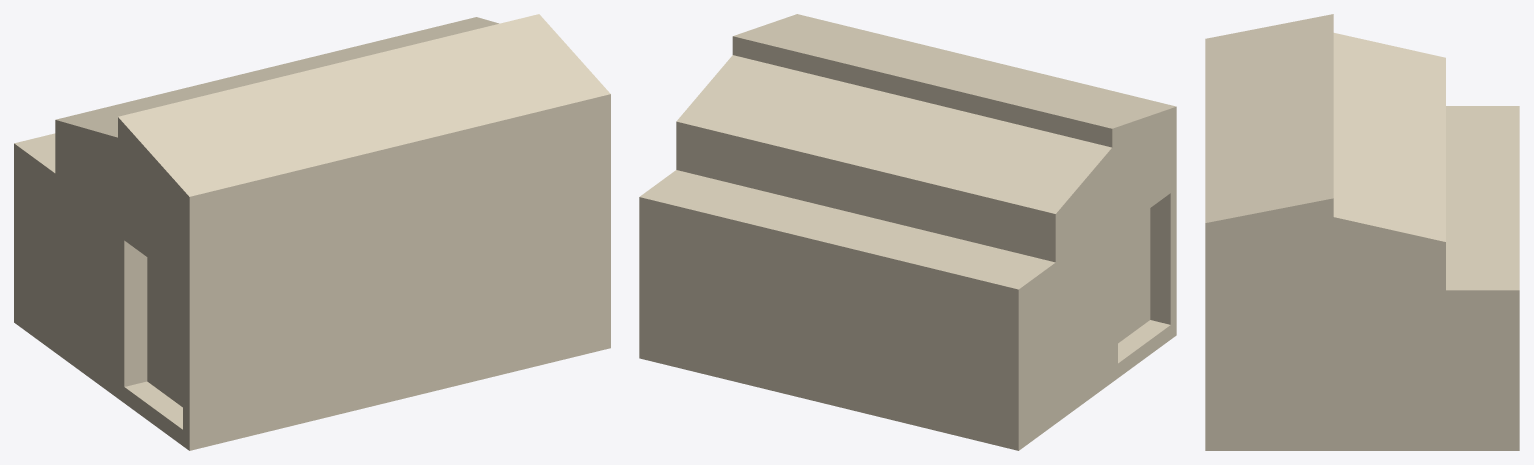
File: SM_William_Penny_Laboratory.fbx
The picture shows the model from 3 angles, left to right: view 1: azimuth 30°, elevation 25°; view 2: azimuth 150°, elevation 25°; view 3: azimuth 270°, elevation 25°; orthographic projection. The views are drawn at different scales.
Parts seen in each view (by area): view 1: SM_William_Penny_Laboratory; view 2: SM_William_Penny_Laboratory; view 3: SM_William_Penny_Laboratory.
Boxes of the visible parts, x1,y1,x2,y2 form: SM_William_Penny_Laboratory: [14, 14, 610, 450]; SM_William_Penny_Laboratory: [639, 14, 1176, 450]; SM_William_Penny_Laboratory: [1205, 14, 1519, 450].
Size of the model in its own units: 35.84 by 22.9 by 25.84.
